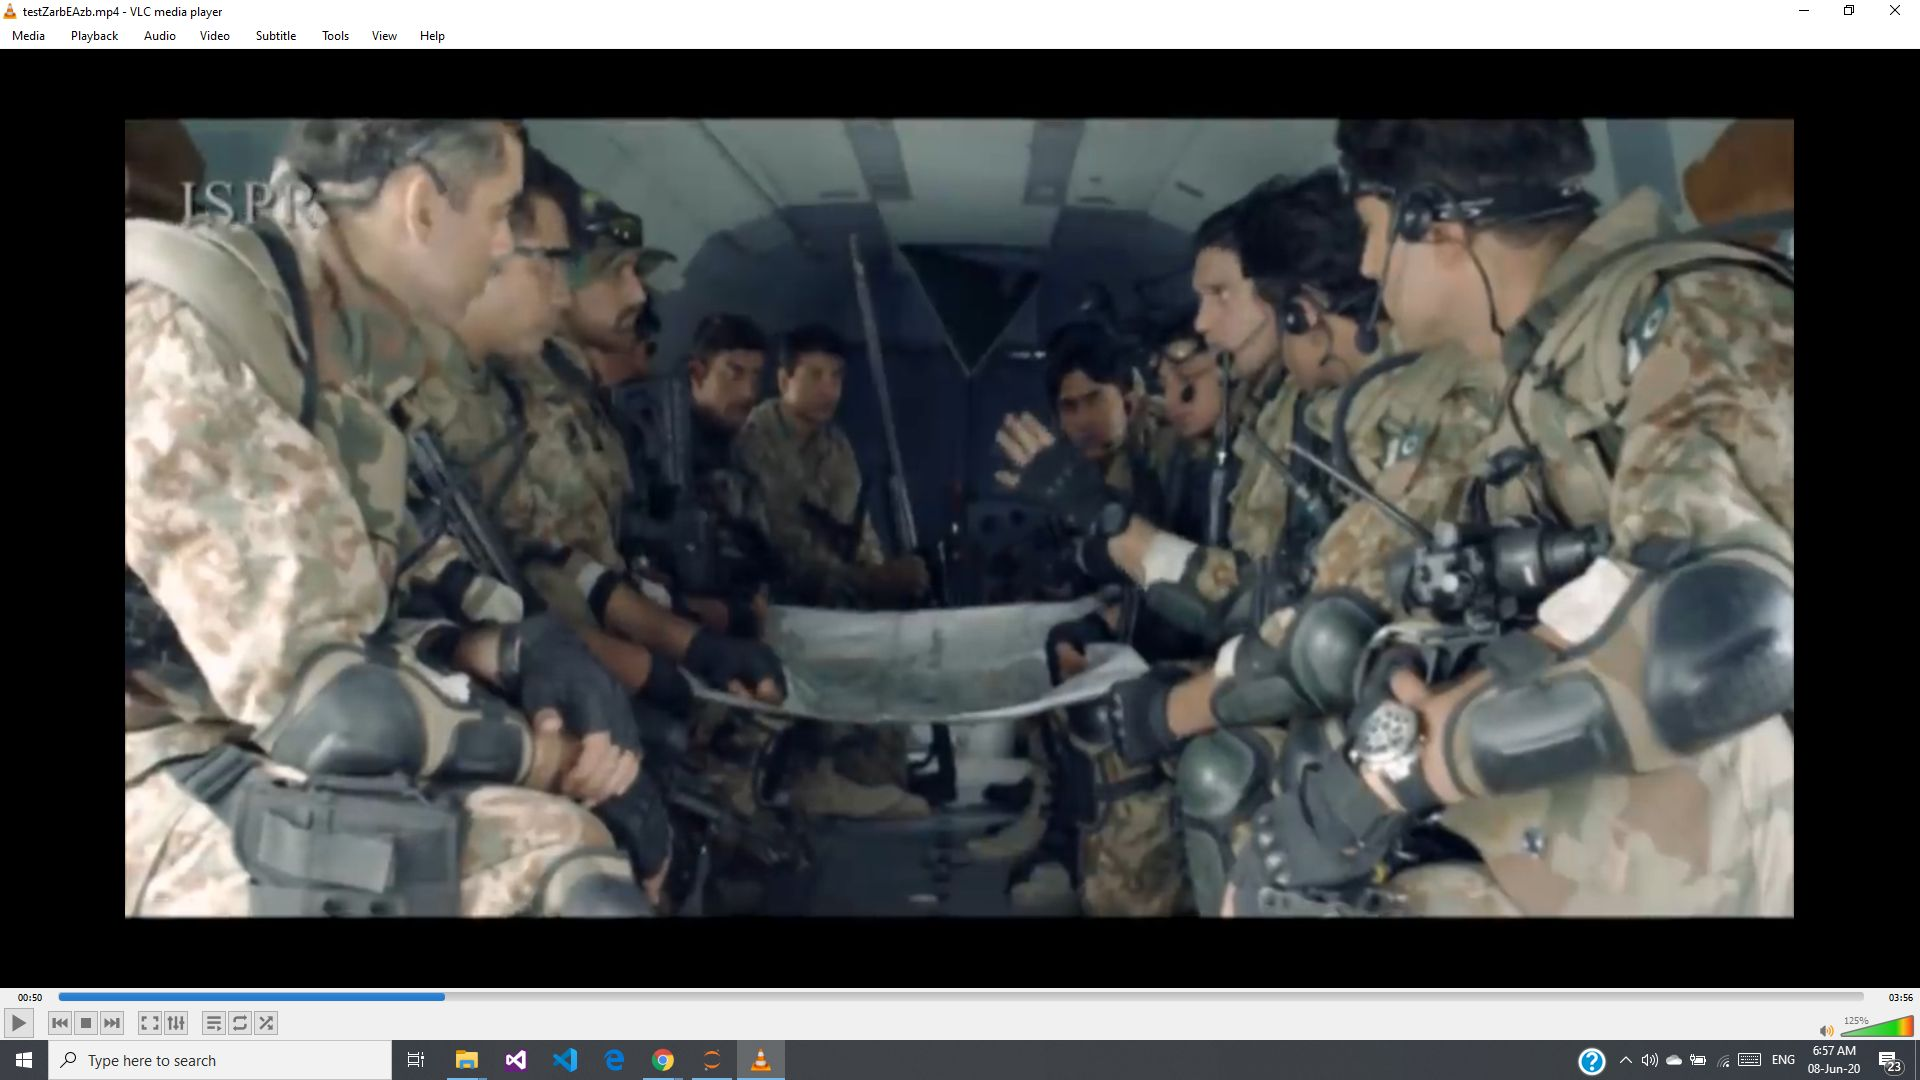uniform: (1284, 161, 1793, 910), (123, 196, 624, 895), (1153, 198, 1427, 862), (409, 290, 665, 905), (1029, 298, 1207, 905), (719, 295, 876, 702)
